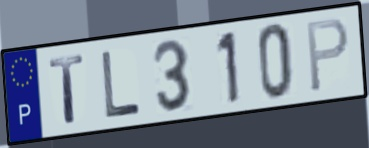0: (256, 21, 297, 102)
1: (215, 28, 242, 108)
3: (152, 36, 195, 115)
L: (99, 48, 143, 119)
P: (305, 16, 351, 96)
T: (46, 52, 87, 127)
